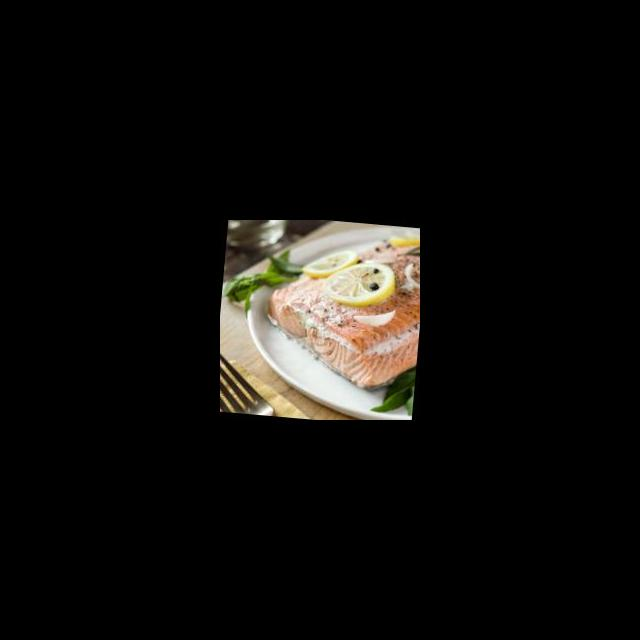ca hoi: (260, 224, 420, 392)
